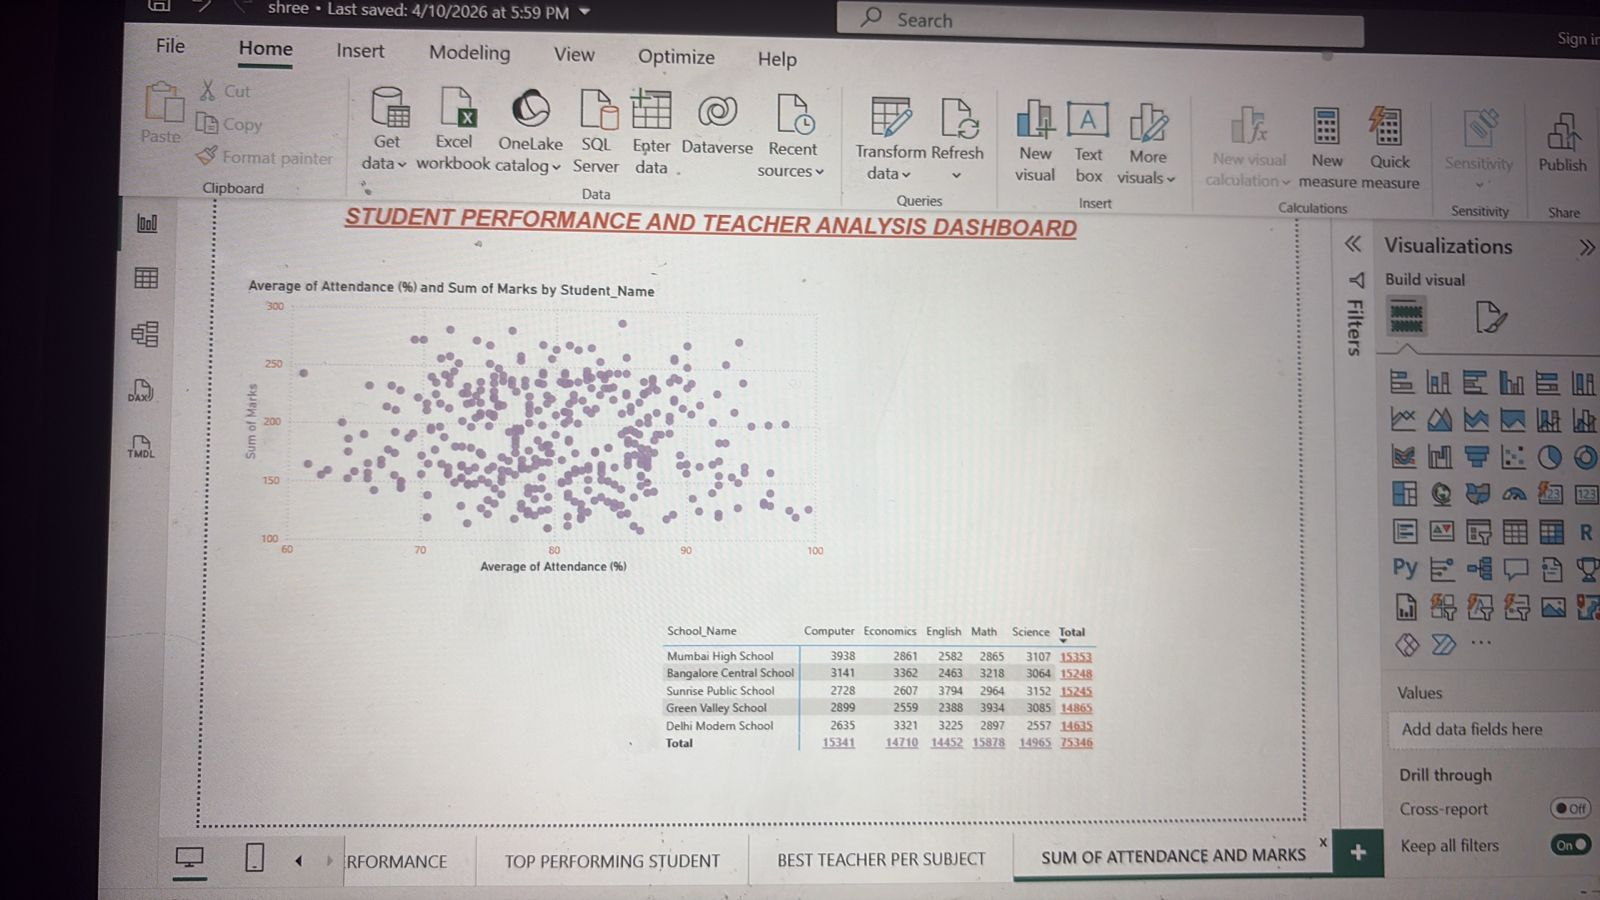

The dashboard page shown, as its layout file describes it:
{"tool":"powerbi","page":{"name":"SUM OF ATTENDANCE AND MARKS","canvas":[1280,720],"ordinal":3},"visuals":[{"type":"scatterChart","fields":{"X":["Avg(Sheet1.Attendance (%))"],"Y":["Sum(Sheet1.Marks)"],"Category":["Sheet1.Student_Name"]},"box":[33.4,92.2,678.9,345.3],"z":0},{"type":"pivotTable","fields":{"Rows":["Sheet1.School_Name"],"Columns":["Sheet1.Subject"],"Values":["Sum(Sheet1.Marks)"]},"box":[516.1,484.7,678.9,202.1],"z":1000},{"type":"textbox","box":[143.2,0,1002.7,64.8],"z":2000}]}

Visuals, with their boxes on the page's 1280x720 design canvas (x1, y1, x2, y2). These are canvas units, not pixel positions in the 1600x900 screenshot, which may show the page scaled, cropped or inside an application window:
scatterChart - Avg(Sheet1.Attendance (%)) x Sum(Sheet1.Marks): [33,92,712,438]
pivotTable - Sheet1.School_Name x Sheet1.Subject: [516,485,1195,687]
textbox: [143,0,1146,65]
